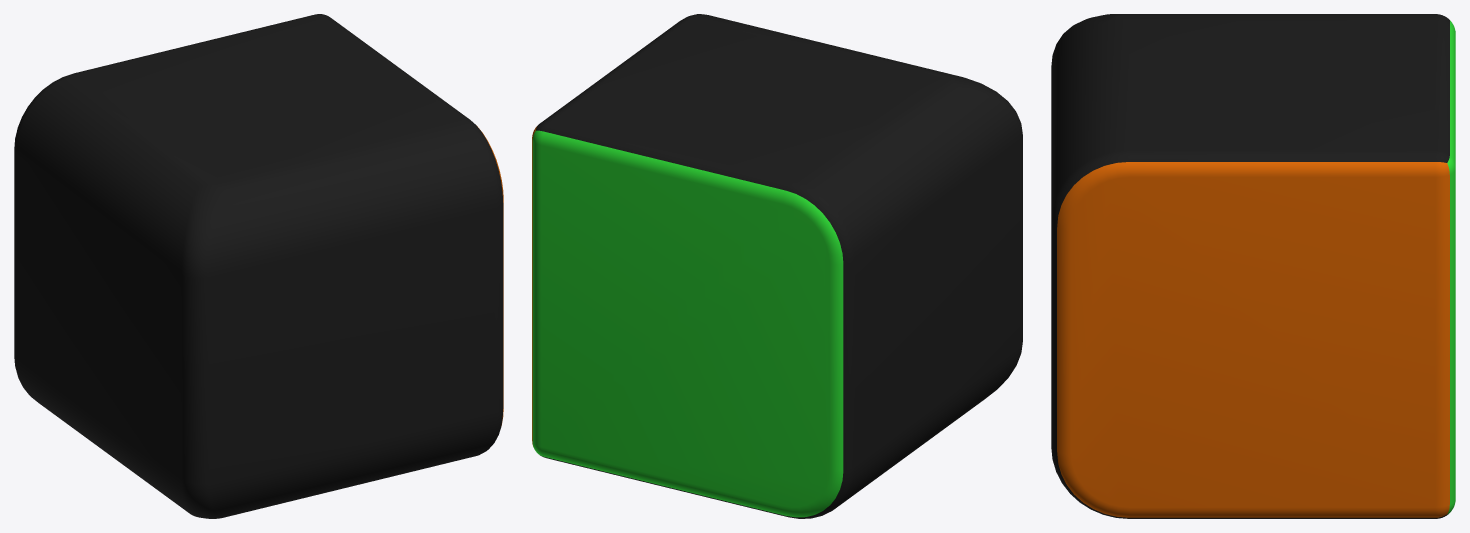
The model's file is og_edge.glb.
The picture shows the model from 3 angles, left to right: view 1: azimuth 30°, elevation 25°; view 2: azimuth 150°, elevation 25°; view 3: azimuth 270°, elevation 25°; orthographic projection. The views are drawn at different scales.
Visible parts, largest first — view 1: Cube.010; view 2: Cube.010; view 3: Cube.010.
Part boxes in pixels (x1,y1,x2,y2): Cube.010: (14,14,503,518); Cube.010: (532,14,1022,518); Cube.010: (1051,14,1455,518).
Bounding box in the file's own units: 2 × 2 × 2.
